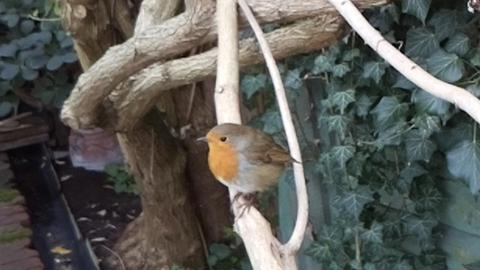robin: (196, 122, 304, 218)
